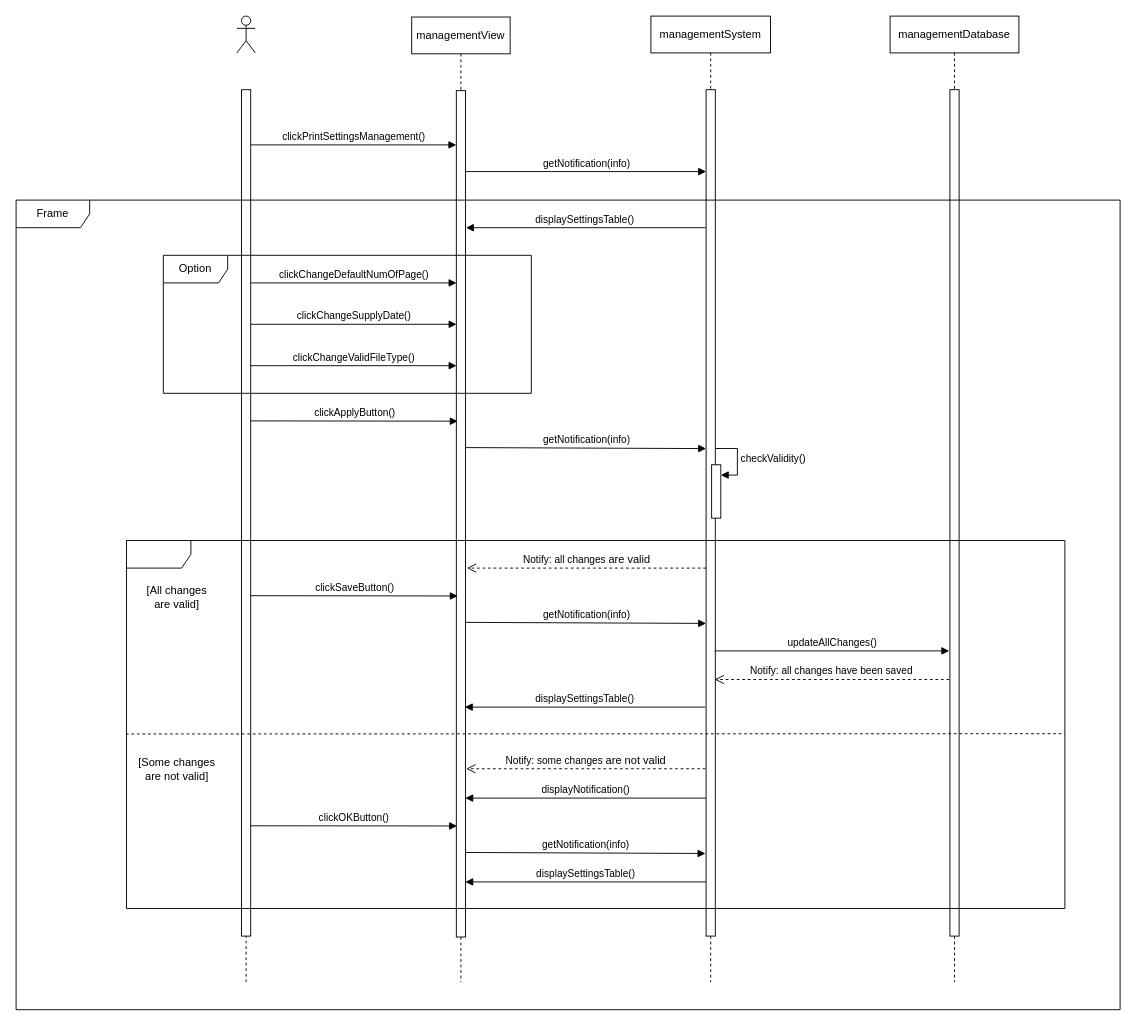
Some shapes in this 1136 by 1026 pixel diagram are drawn without their labels. The box of each missing label's shape, as (x1, y1, x2, y2) in pixels:
Alt: (126, 540, 1065, 908)
SPSO: (236, 15, 255, 53)
